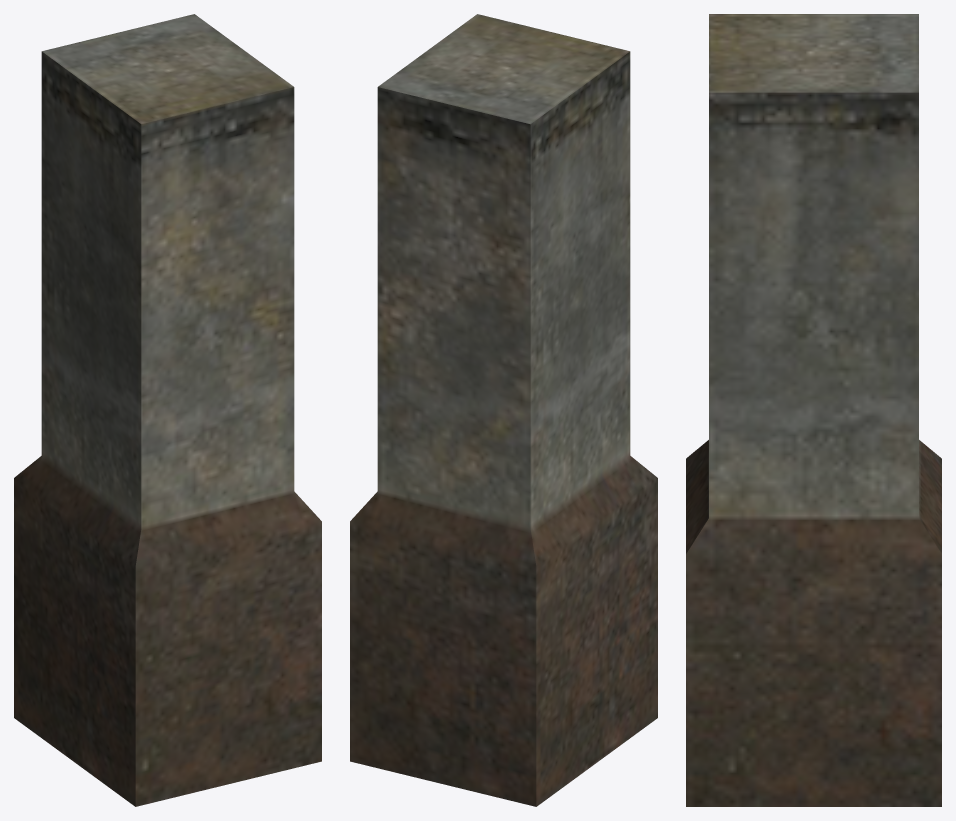
The model's file is Pillar.FBX.
The picture shows the model from 3 angles, left to right: view 1: azimuth 30°, elevation 25°; view 2: azimuth 150°, elevation 25°; view 3: azimuth 270°, elevation 25°; orthographic projection. The views are drawn at different scales.
Visible parts, largest first — view 1: Pillar; view 2: Pillar; view 3: Pillar.
Boxes of the visible parts, bbox=[...] form: Pillar: bbox=[14, 14, 321, 806]; Pillar: bbox=[350, 14, 657, 806]; Pillar: bbox=[686, 14, 941, 806].
Bounding box in the file's own units: 154 × 531 × 174.
